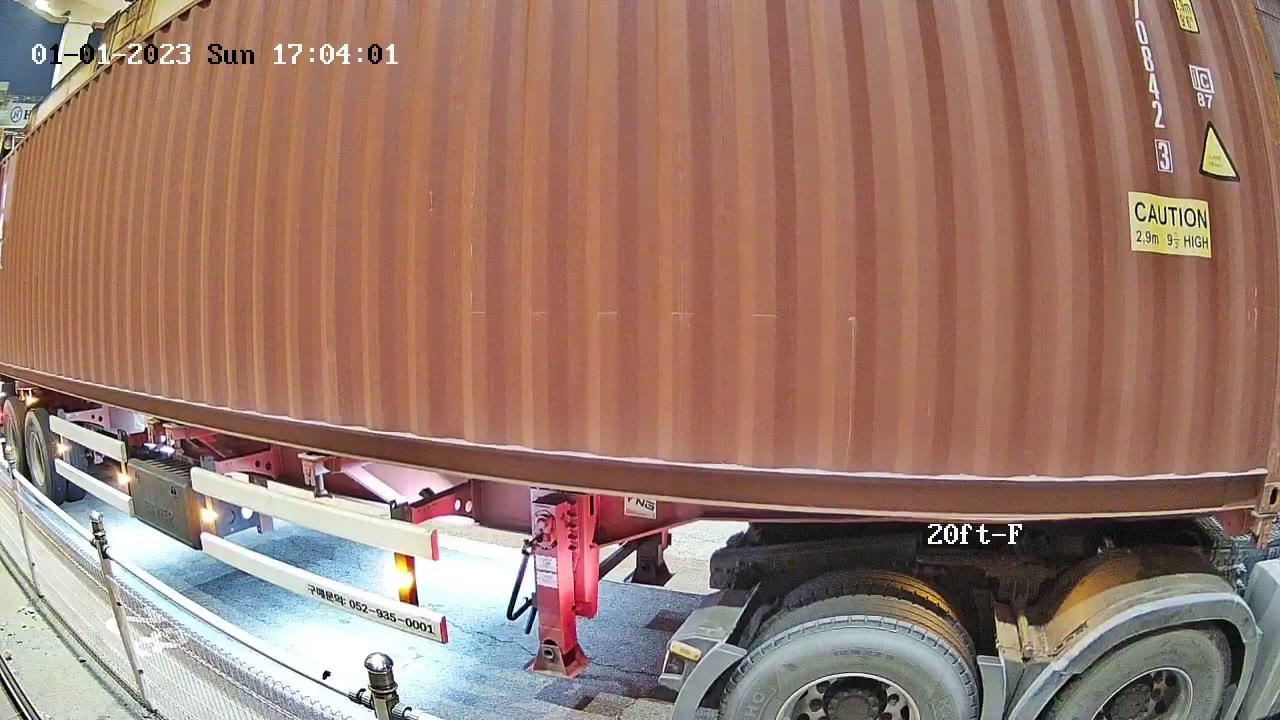Hole_R: (1210, 437, 1279, 512)
Tire: (722, 617, 979, 714), (1049, 630, 1229, 719)
